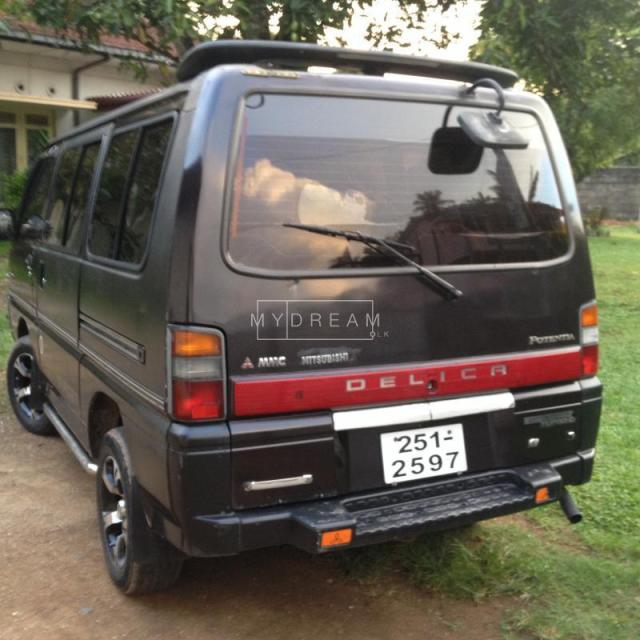license-plate: (375, 421, 468, 480)
